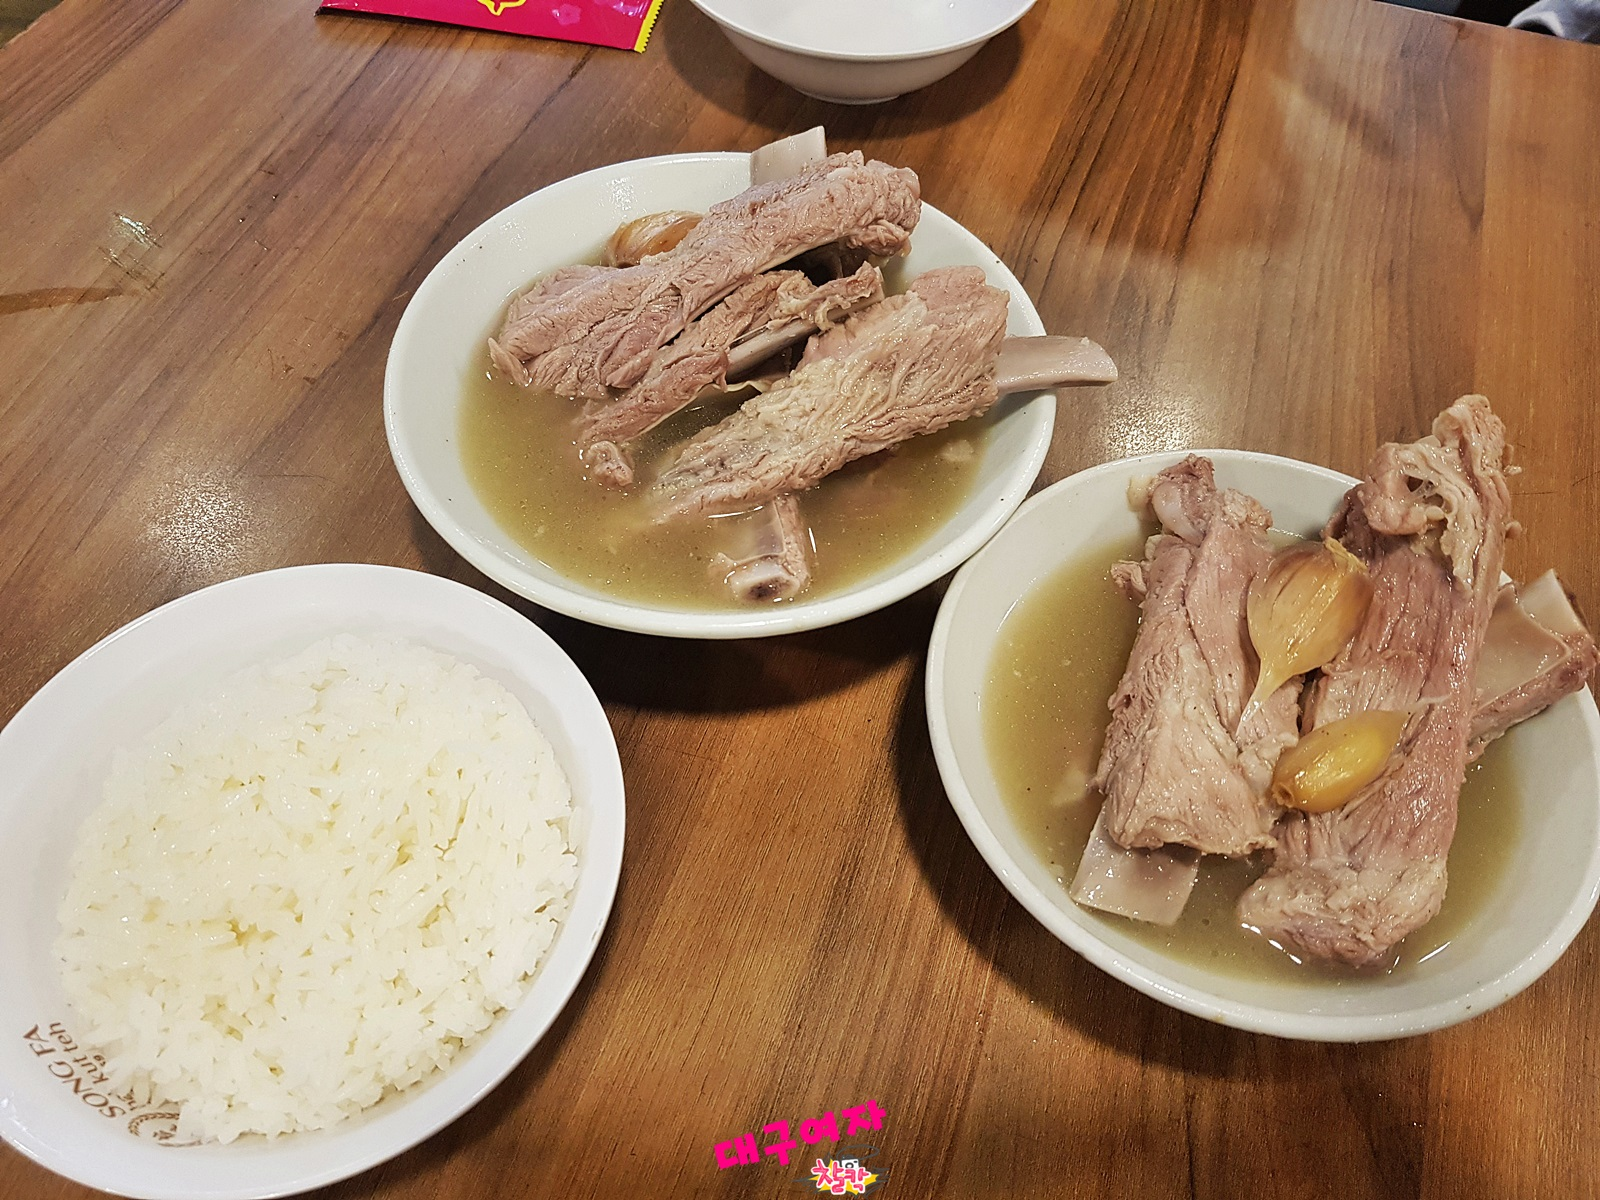plain rice: (72, 688, 535, 1060)
